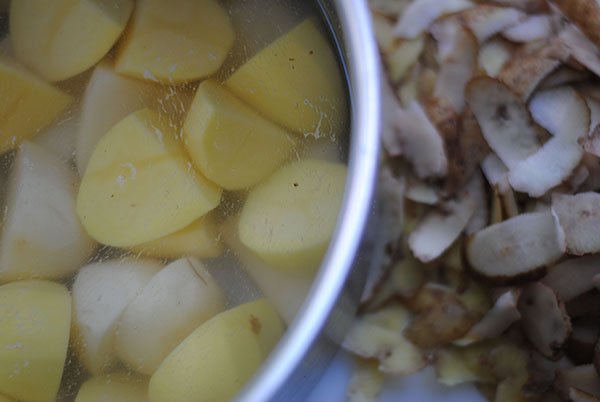boiled potatoes: (1, 11, 296, 380)
